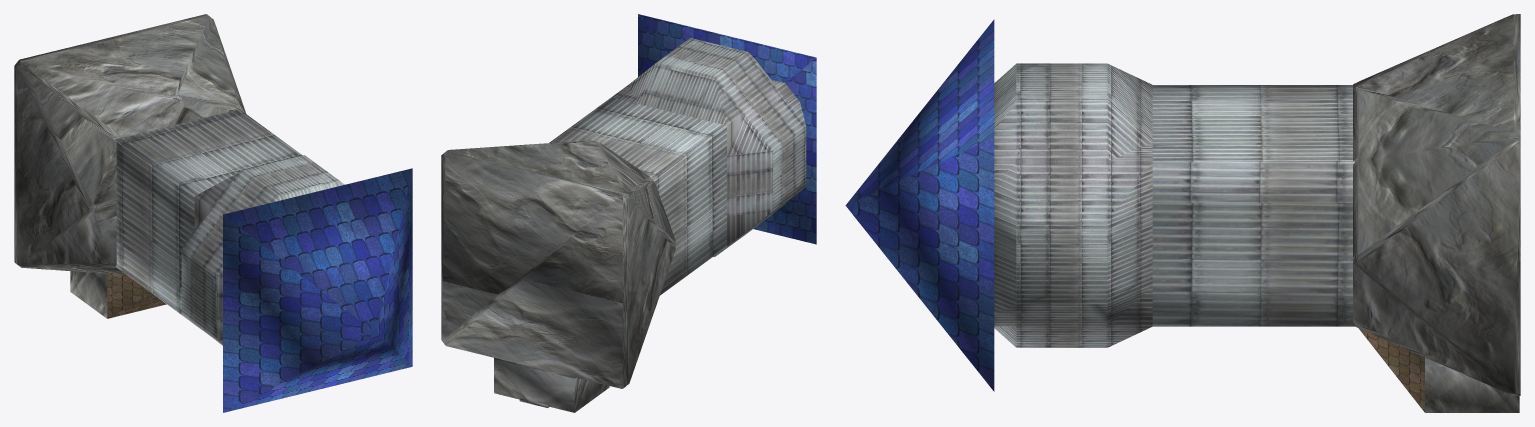
The model's file is tanktower-body.fbx.
3 views of the same model, side by side, from view 1: azimuth 30°, elevation 25°; view 2: azimuth 150°, elevation 25°; view 3: azimuth 270°, elevation 25° (orthographic). The views are drawn at different scales.
Parts seen in each view (by area): view 1: Cone, Cube.001, Cube, Cube.002, Cube.003, Cube.004; view 2: Cube.001, Cube.002, Cube, Cone, Cube.004; view 3: Cube.001, Cube, Cube.002, Cone, Cube.004, Cube.003.
Boxes of the visible parts, <box> form: Cone: <box>223,168,412,412</box>; Cube.001: <box>14,14,246,274</box>; Cube: <box>115,108,302,322</box>; Cube.002: <box>181,155,344,345</box>; Cube.003: <box>107,273,166,318</box>; Cube.004: <box>70,271,107,318</box>; Cube.001: <box>441,140,675,388</box>; Cube.002: <box>612,38,806,256</box>; Cube: <box>549,97,726,295</box>; Cone: <box>638,14,816,244</box>; Cube.004: <box>494,358,609,412</box>; Cube.001: <box>1353,14,1520,395</box>; Cube: <box>1152,85,1356,326</box>; Cube.002: <box>994,63,1152,347</box>; Cone: <box>845,19,994,391</box>; Cube.004: <box>1425,357,1519,412</box>; Cube.003: <box>1359,328,1424,412</box>.
Bounding box in the file's own units: 3.21 × 3.96 × 7.42.
Materials: 6 (6 with a texture image).
